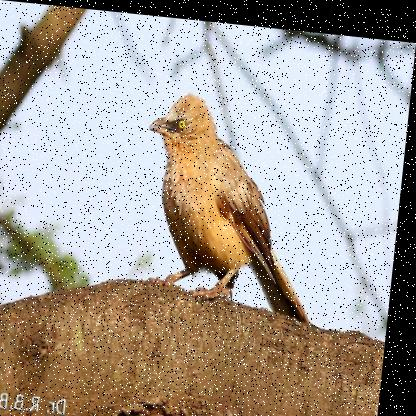Burung: (138, 84, 335, 317)
